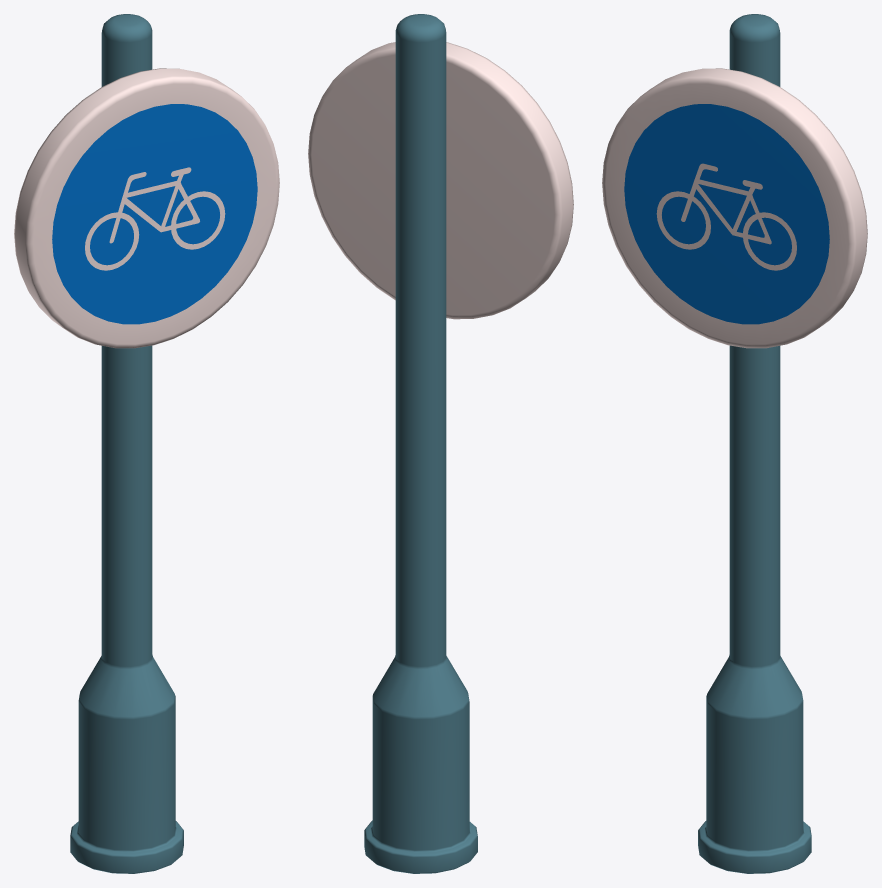
File: Town_19_Bicycle_Sign_1.glb
3 views of the same model, side by side, from view 1: azimuth 30°, elevation 25°; view 2: azimuth 150°, elevation 25°; view 3: azimuth 330°, elevation 25° (orthographic).
Visible parts, largest first — view 1: Town_19_Bicycle_Sign_1; view 2: Town_19_Bicycle_Sign_1; view 3: Town_19_Bicycle_Sign_1.
Part boxes in pixels (<box>): Town_19_Bicycle_Sign_1: <box>14,14,279,873</box>; Town_19_Bicycle_Sign_1: <box>308,14,573,873</box>; Town_19_Bicycle_Sign_1: <box>602,14,867,873</box>.
Bounding box in the file's own units: 0.9546 × 2.99 × 0.374.
1 material, 1 textured.
